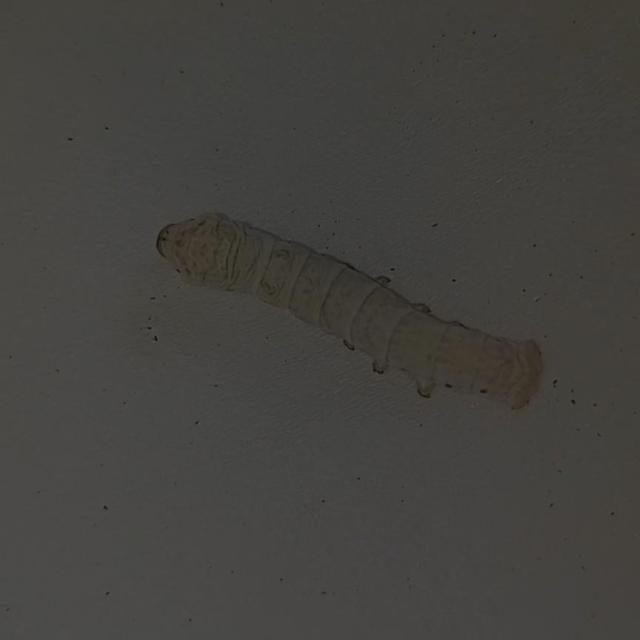Healthy: (131, 181, 561, 455)
